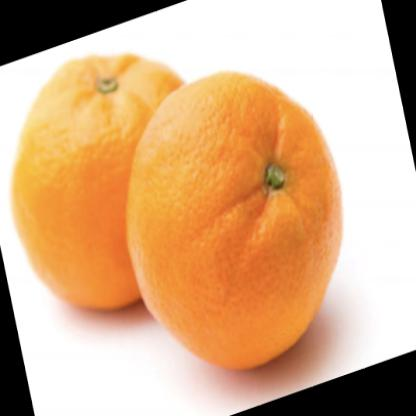orange: (124, 68, 345, 379), (12, 51, 168, 312)
